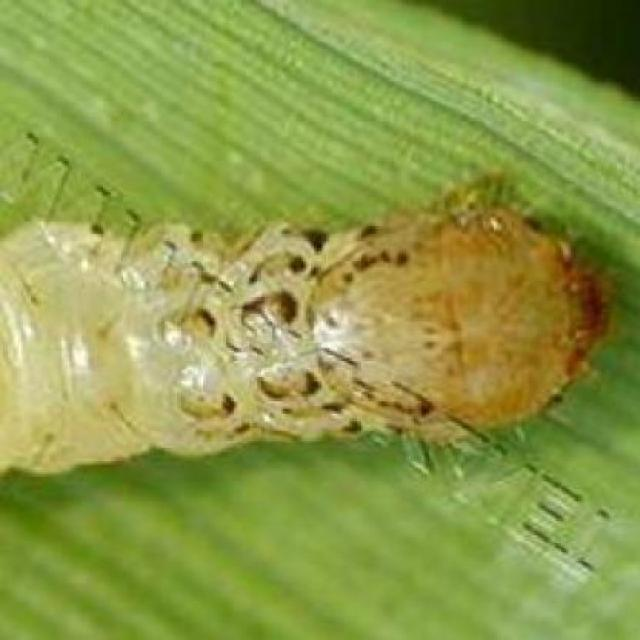leaf-folder: (4, 165, 622, 510)
